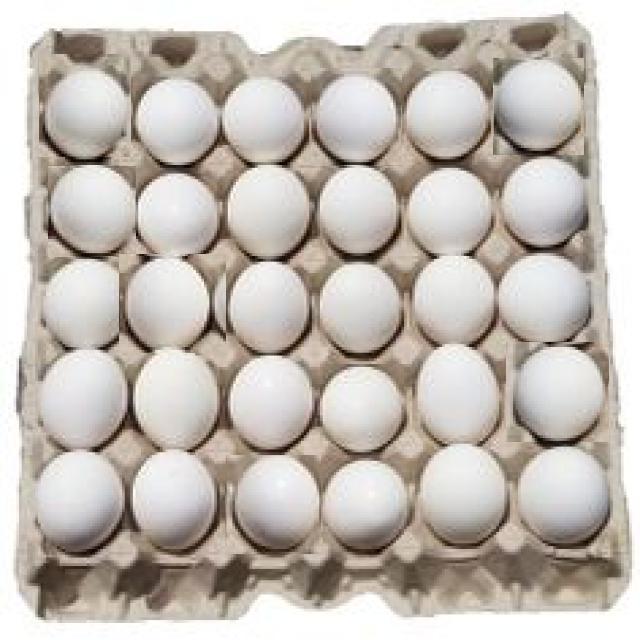Egg: (505, 447, 631, 563), (217, 158, 319, 263), (119, 254, 226, 353), (506, 342, 609, 442), (406, 251, 504, 356), (39, 54, 131, 157), (31, 449, 128, 546), (226, 455, 321, 554), (311, 67, 402, 166), (493, 58, 584, 155), (503, 154, 591, 252), (318, 368, 418, 454), (47, 166, 136, 257)
